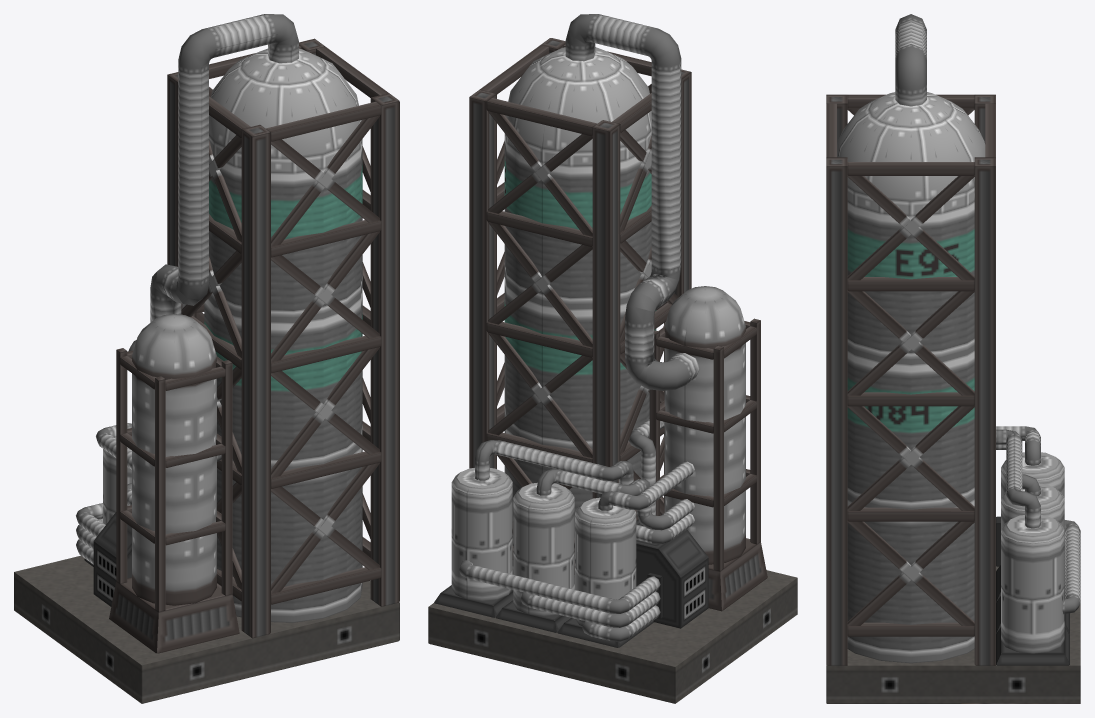
File: catalytic_cracker.obj
3 views of the same model, side by side, from view 1: azimuth 30°, elevation 25°; view 2: azimuth 150°, elevation 25°; view 3: azimuth 270°, elevation 25° (orthographic). The views are drawn at different scales.
Parts seen in each view (by area): view 1: Cube; view 2: Cube; view 3: Cube.
Boxes of the visible parts, x1=… form: Cube: x1=14, y1=14, x2=399, y2=703; Cube: x1=428, y1=14, x2=797, y2=703; Cube: x1=826, y1=14, x2=1080, y2=703.
Size of the model in its own units: 7 by 16 by 6.
